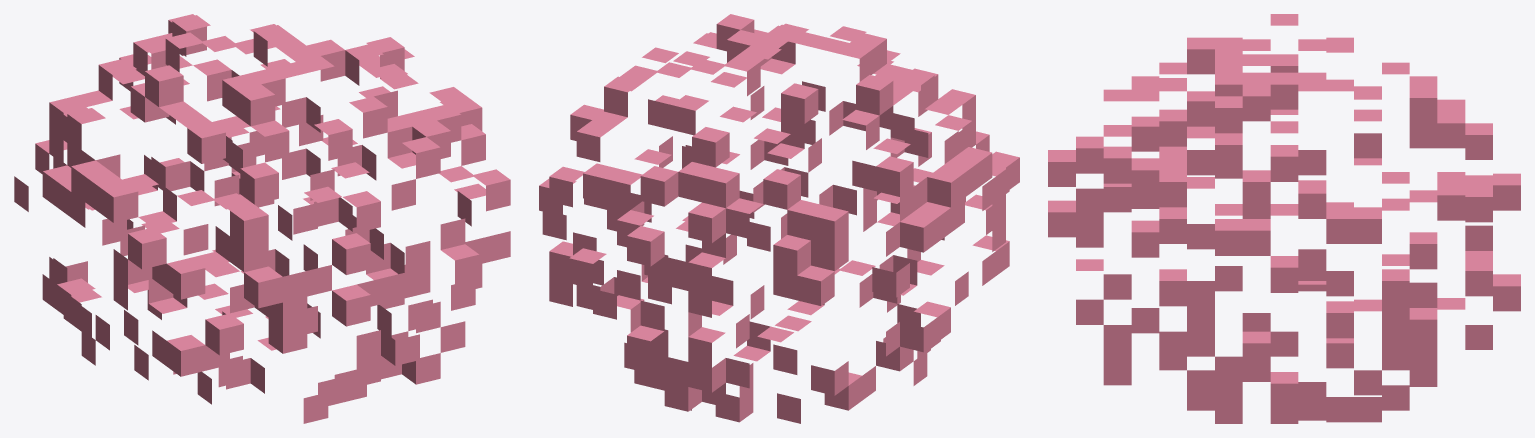
The model's file is tree-cherry-1p25-pink2-f28fab.gltf.
The picture shows the model from 3 angles, left to right: view 1: azimuth 30°, elevation 25°; view 2: azimuth 150°, elevation 25°; view 3: azimuth 270°, elevation 25°; orthographic projection. The views are drawn at different scales.
Parts seen in each view (by area): view 1: tree-cherry-1p25-pink2-f28fab; view 2: tree-cherry-1p25-pink2-f28fab; view 3: tree-cherry-1p25-pink2-f28fab.
Part boxes in pixels (x1,y1,x2,y2): tree-cherry-1p25-pink2-f28fab: [14, 14, 510, 423]; tree-cherry-1p25-pink2-f28fab: [539, 14, 1019, 423]; tree-cherry-1p25-pink2-f28fab: [1048, 14, 1520, 423].
Bounding box in the file's own units: 16 × 13 × 17.
